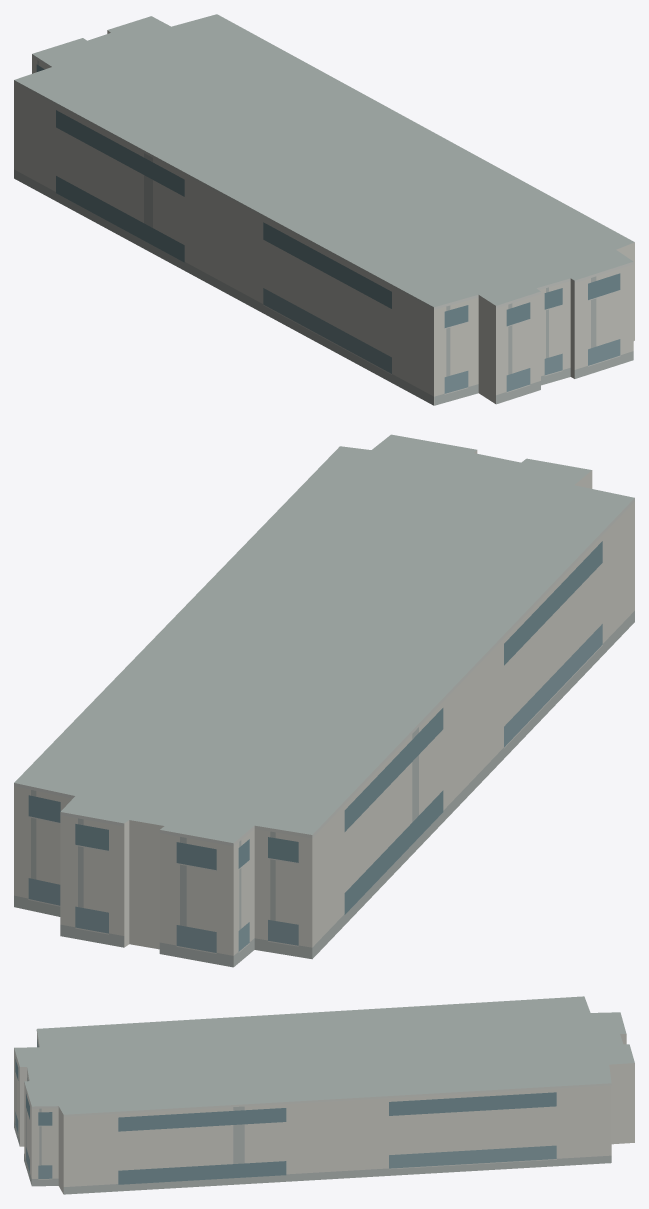
Rendered from survey-upis-32489327.glb.
3 views of the same model, one above another, from view 1: azimuth 30°, elevation 25°; view 2: azimuth 150°, elevation 25°; view 3: azimuth 270°, elevation 25° (orthographic). The views are drawn at different scales.
Parts seen in each view (by area): view 1: survey-upis-32489327.tmp; view 2: survey-upis-32489327.tmp; view 3: survey-upis-32489327.tmp.
Part boxes in pixels (x1,y1,x2,y2): survey-upis-32489327.tmp: (14,14,634,405); survey-upis-32489327.tmp: (14,434,634,967); survey-upis-32489327.tmp: (14,996,634,1194).
Size of the model in its own units: 29.12 by 9.15 by 64.52.
